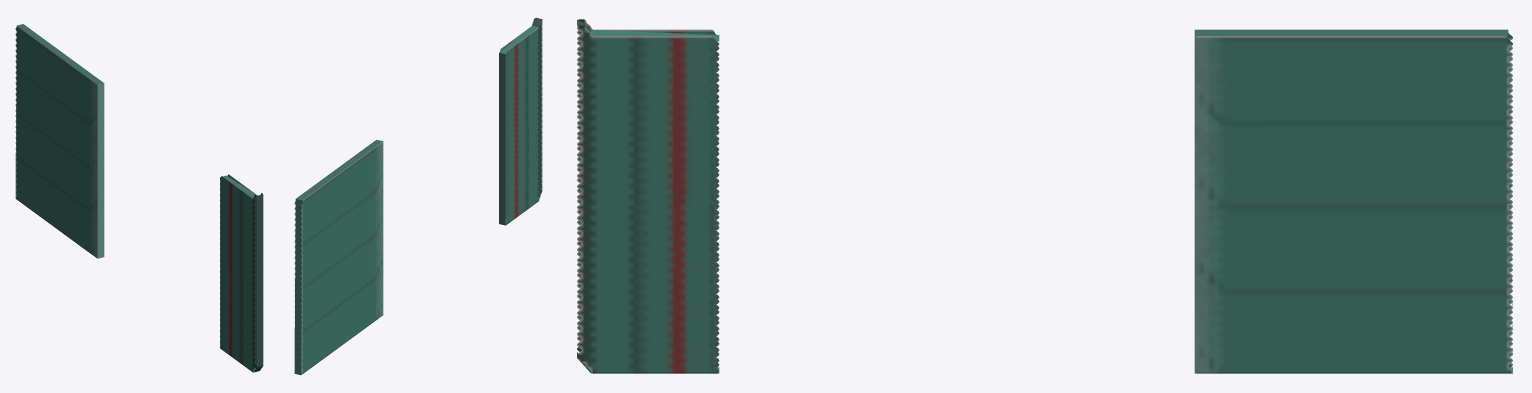
File: pz_native_location_restaurant_diner_01_9_frame.obj
3 renders of one model, left to right at view 1: azimuth 30°, elevation 25°; view 2: azimuth 150°, elevation 25°; view 3: azimuth 270°, elevation 25°, orthographic. The views are drawn at different scales.
Visible parts, largest first — view 1: pz_native_location_restaurant_diner_01_9_frame; view 2: pz_native_location_restaurant_diner_01_9_frame; view 3: pz_native_location_restaurant_diner_01_9_frame.
Boxes of the visible parts, box(x1,y1,x2,y2) form: pz_native_location_restaurant_diner_01_9_frame: box(15, 24, 263, 372); pz_native_location_restaurant_diner_01_9_frame: box(294, 17, 542, 375); pz_native_location_restaurant_diner_01_9_frame: box(577, 19, 1512, 373).
Size of the model in its own units: 0.04 by 1.06 by 2.54.
Materials: 1 (1 with a texture image).
